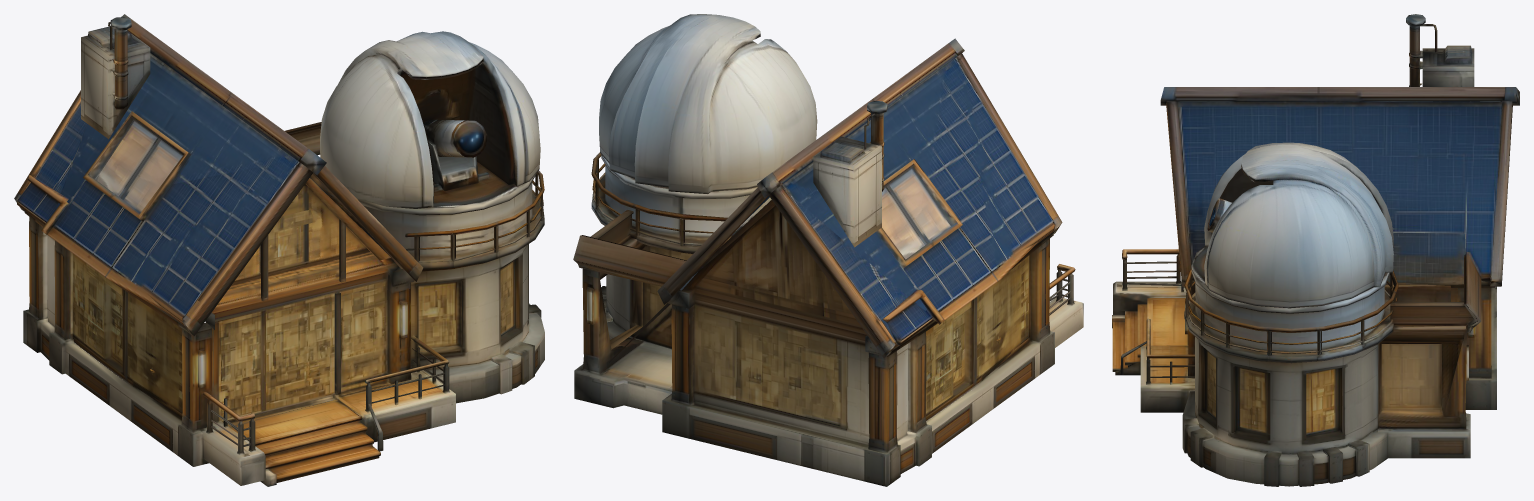
File: observatory.glb
3 renders of one model, left to right at view 1: azimuth 30°, elevation 25°; view 2: azimuth 150°, elevation 25°; view 3: azimuth 270°, elevation 25°, orthographic. The views are drawn at different scales.
Visible parts, largest first — view 1: e69d467b_4a91_44dc_a7d8_2577b5f856f8; view 2: e69d467b_4a91_44dc_a7d8_2577b5f856f8; view 3: e69d467b_4a91_44dc_a7d8_2577b5f856f8.
Boxes of the visible parts, left/top/right/bottom form: e69d467b_4a91_44dc_a7d8_2577b5f856f8: left=14, top=14, right=544, bottom=486; e69d467b_4a91_44dc_a7d8_2577b5f856f8: left=573, top=14, right=1083, bottom=486; e69d467b_4a91_44dc_a7d8_2577b5f856f8: left=1112, top=14, right=1519, bottom=486.
Size of the model in its own units: 0.9995 by 0.7896 by 0.9243.
1 material, 1 textured.
